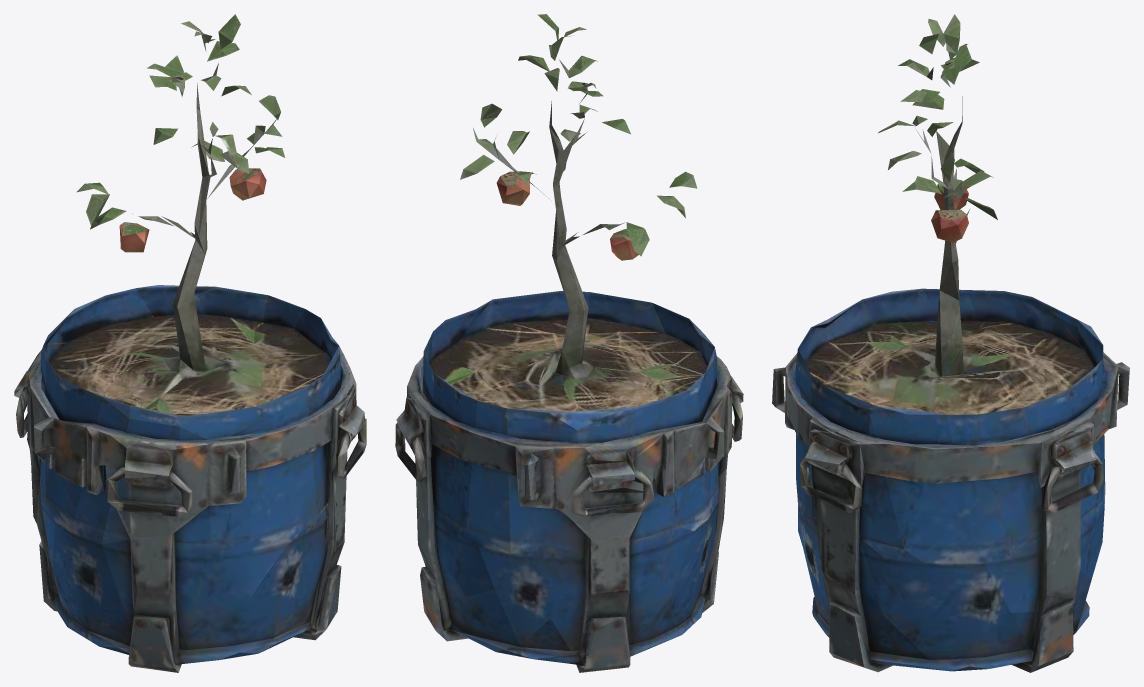
File: sapling.glb
3 views of the same model, side by side, from view 1: azimuth 30°, elevation 25°; view 2: azimuth 150°, elevation 25°; view 3: azimuth 270°, elevation 25° (orthographic). The views are drawn at different scales.
Visible parts, largest first — view 1: Mesh_0; view 2: Mesh_0; view 3: Mesh_0.
Part boxes in pixels (x1=…): Mesh_0: x1=14, y1=14, x2=366, y2=672; Mesh_0: x1=395, y1=14, x2=743, y2=672; Mesh_0: x1=772, y1=14, x2=1129, y2=672.
Size of the model in its own units: 0.8294 by 1.6 by 0.8423.
Materials: 1 (1 with a texture image).
